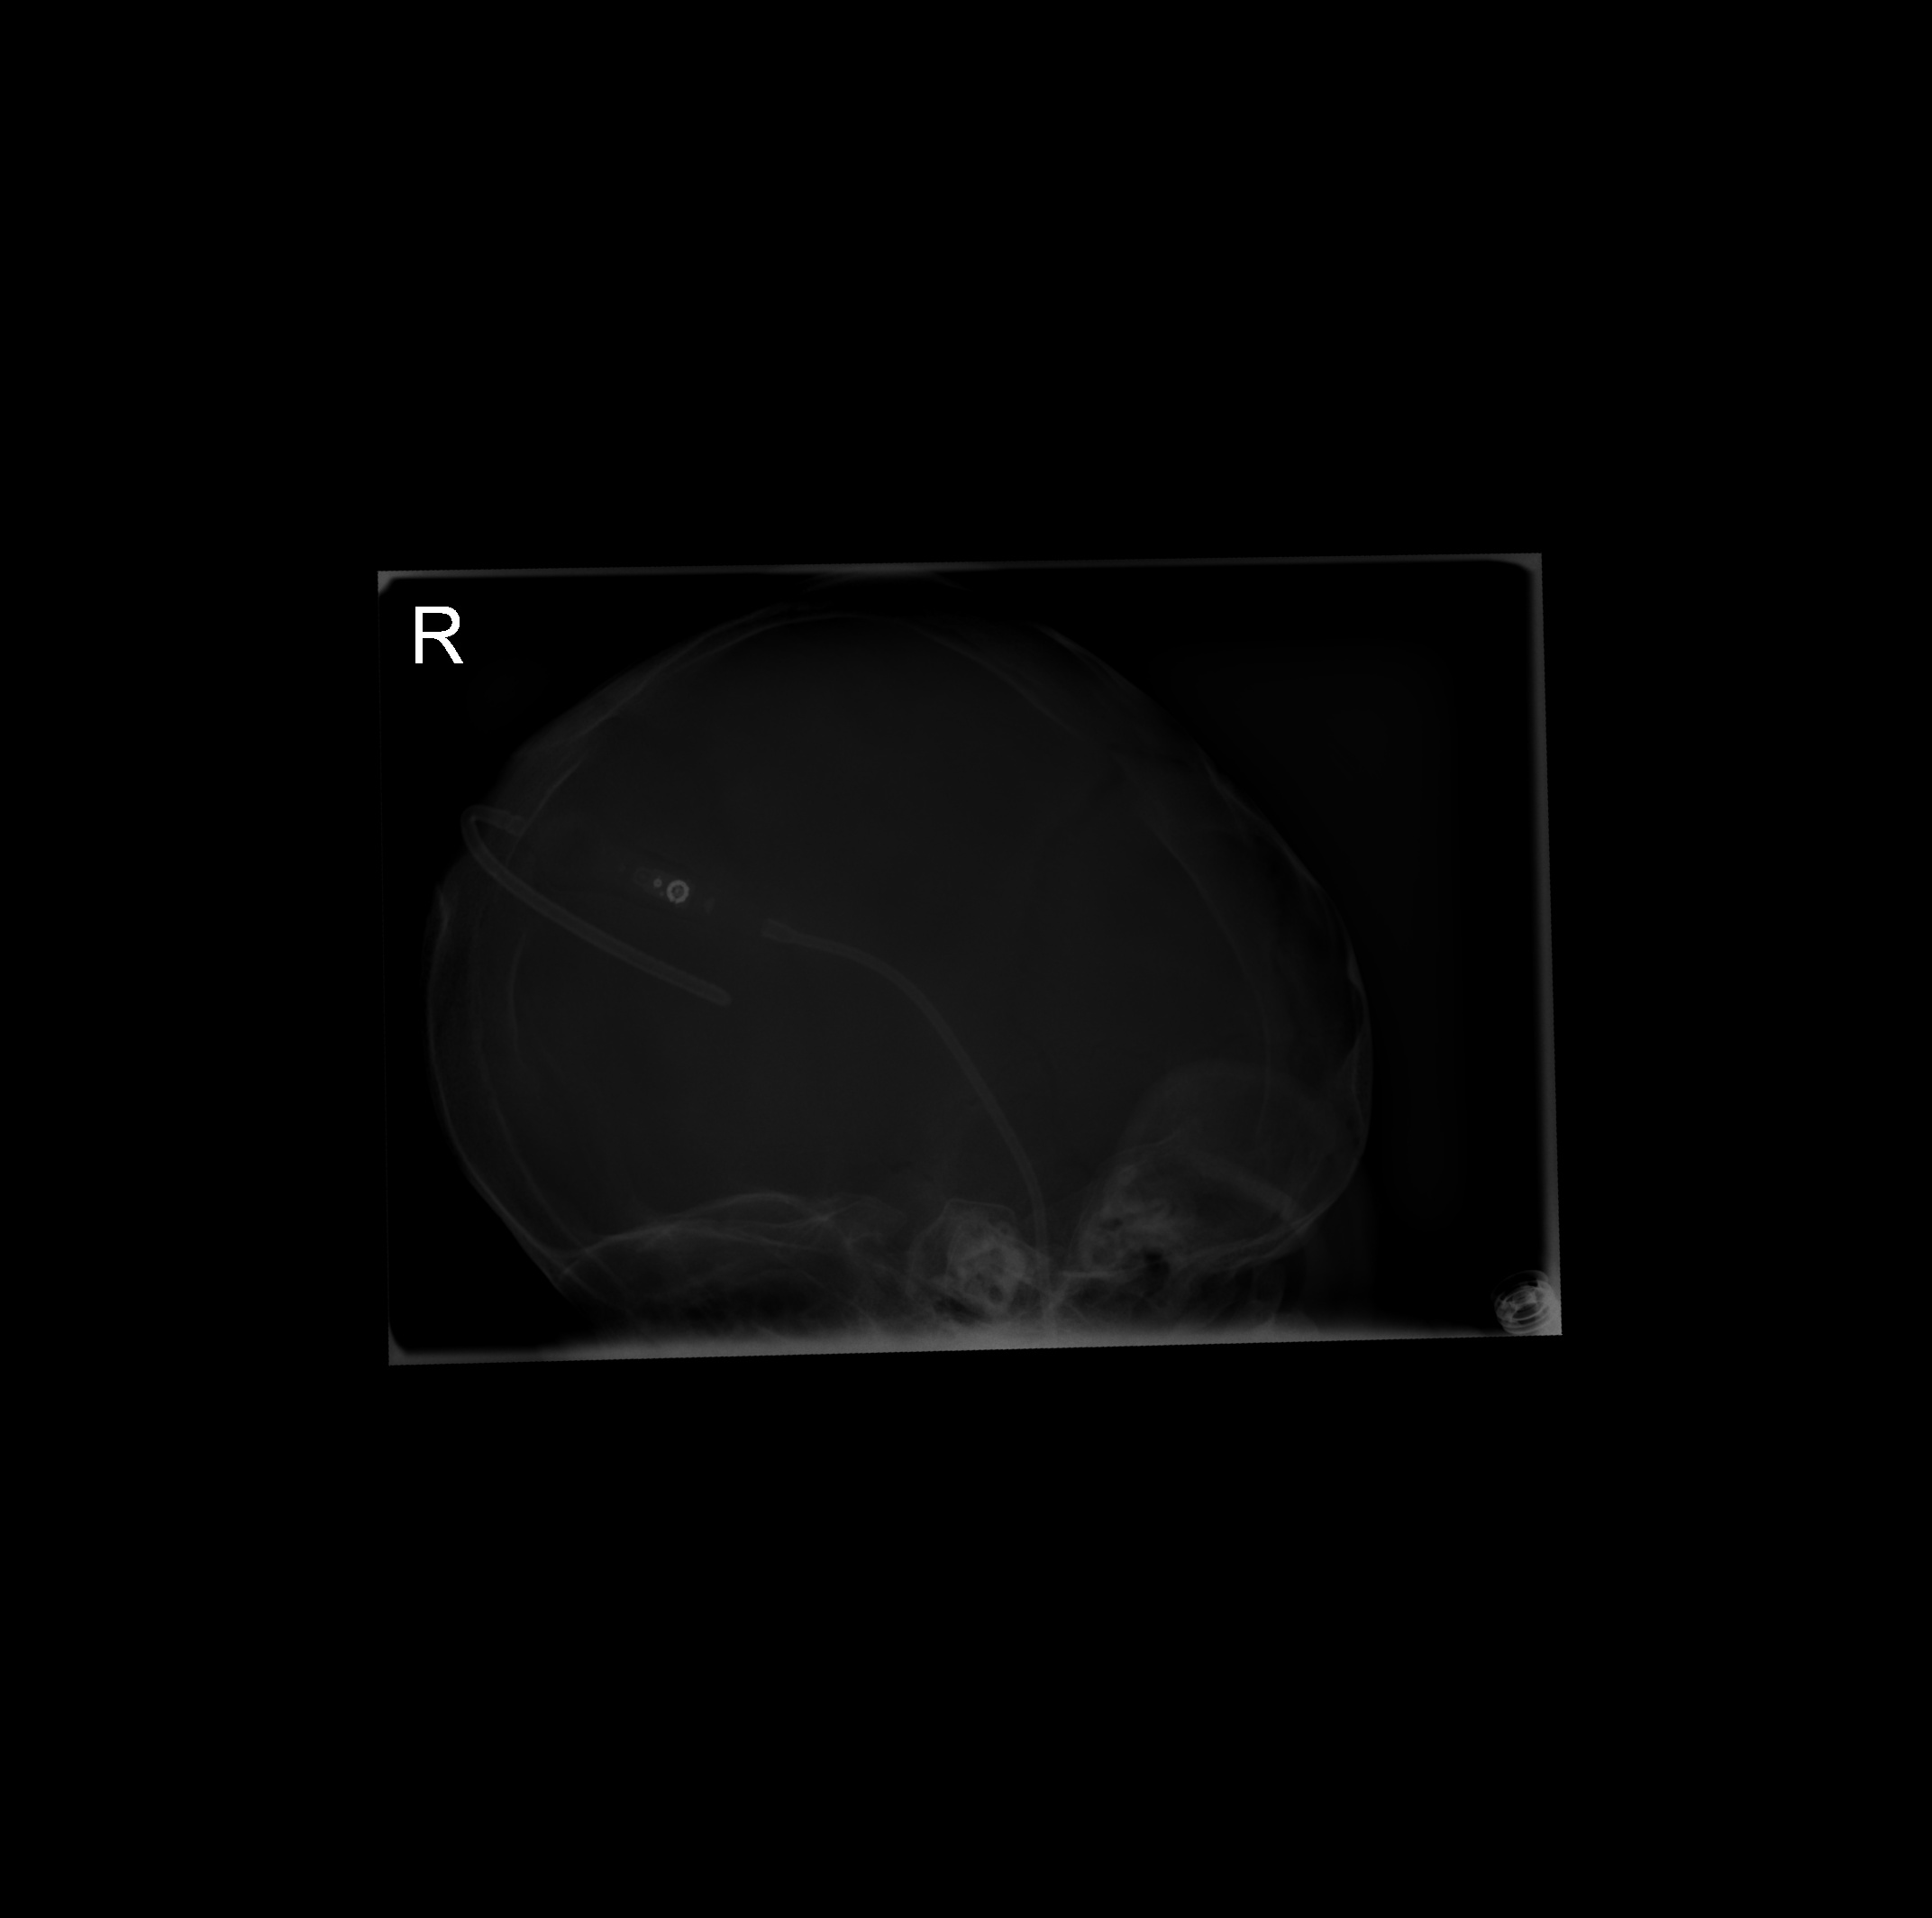Codman Hakim: (643, 861, 706, 919)
